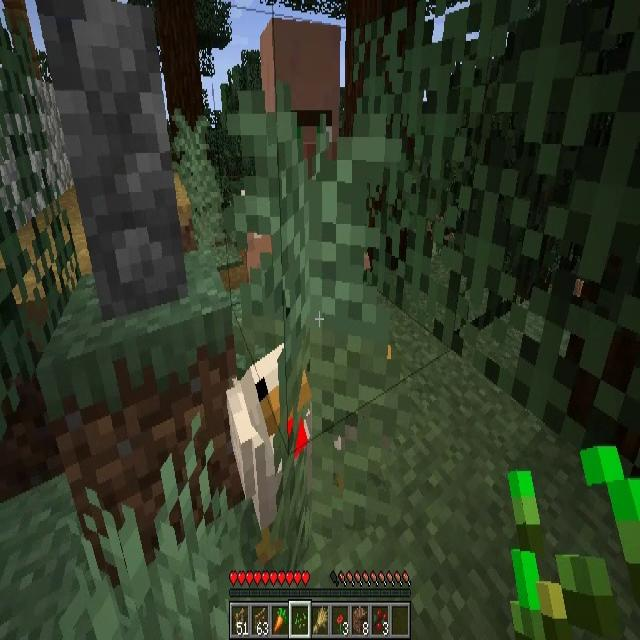duck: (226, 342, 313, 552)
